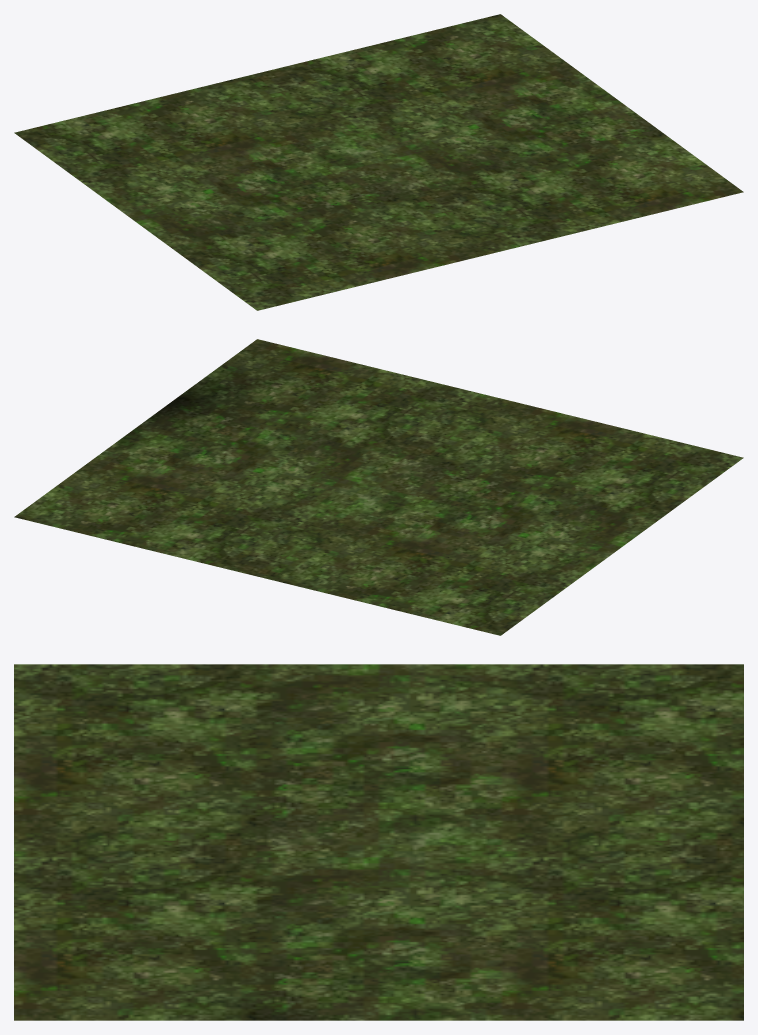
File: OVERHILL_A_01_OBJECT81.fbx
3 renders of one model, top to bottom at view 1: azimuth 30°, elevation 25°; view 2: azimuth 150°, elevation 25°; view 3: azimuth 270°, elevation 25°, orthographic. The views are drawn at different scales.
Visible parts, largest first — view 1: OVERHILL_A_01_OBJECT81; view 2: OVERHILL_A_01_OBJECT81; view 3: OVERHILL_A_01_OBJECT81.
Boxes of the visible parts, <box> form: OVERHILL_A_01_OBJECT81: <box>14,14,743,310</box>; OVERHILL_A_01_OBJECT81: <box>14,339,743,635</box>; OVERHILL_A_01_OBJECT81: <box>14,664,743,1020</box>.
Size of the model in its own units: 54178 by 0.00764 by 46916.
Materials: 1 (1 with a texture image).
